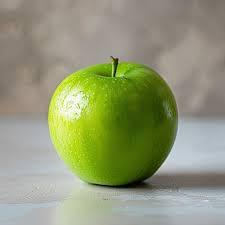apple: (45, 55, 187, 192)
